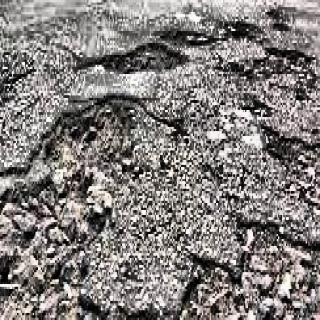crack: (7, 61, 37, 85)
pothole: (0, 89, 145, 320), (165, 213, 320, 315), (257, 122, 320, 212), (73, 40, 191, 76), (229, 45, 319, 87), (158, 25, 217, 47), (225, 17, 265, 43), (271, 20, 290, 33), (266, 7, 284, 19)
